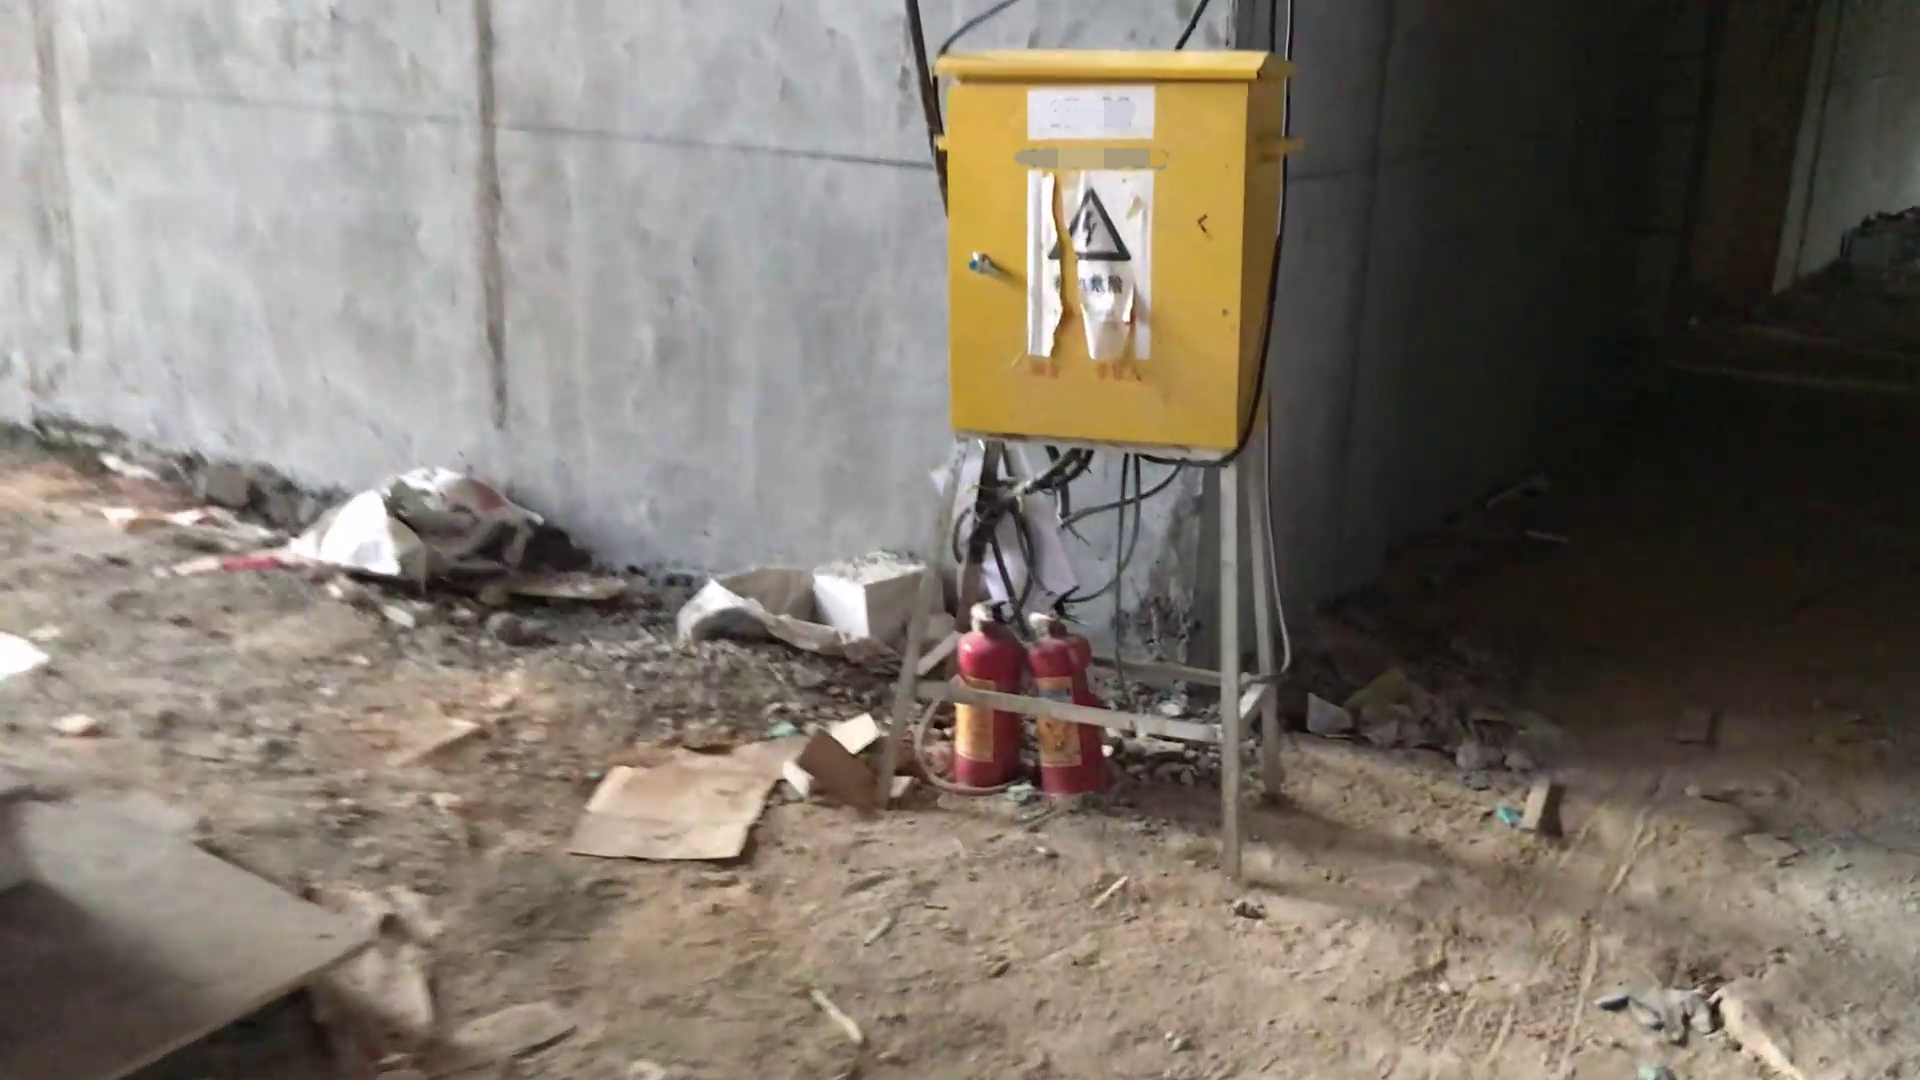ebox: (913, 34, 1305, 479)
